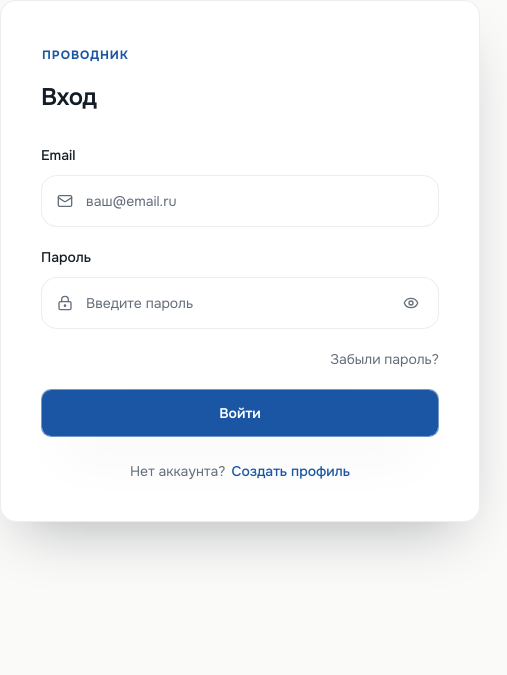
Test case: AuthEntryScreen traveler sign-in › shows a database session error in Russian when sign-in fails at token issuance
Type "admin@provodnik.test" into the field labelled "Email" at (240, 201), box x1=41 y1=175 x2=439 y2=227
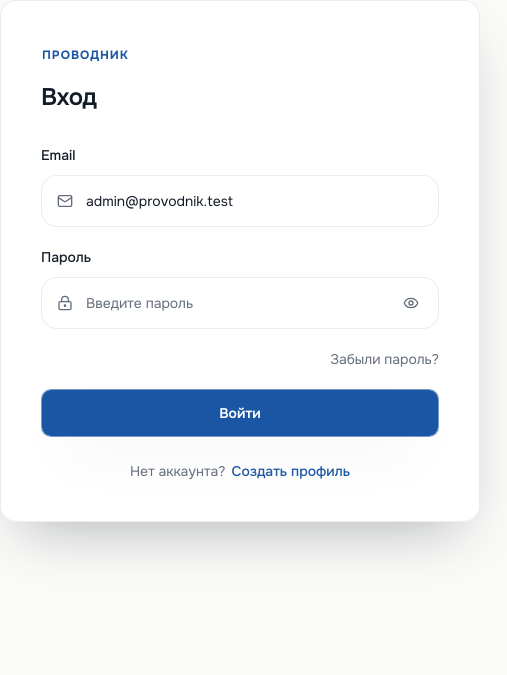
Type "Admin1234!" into the password field labelled "Пароль" at (240, 303), box x1=41 y1=277 x2=439 y2=329
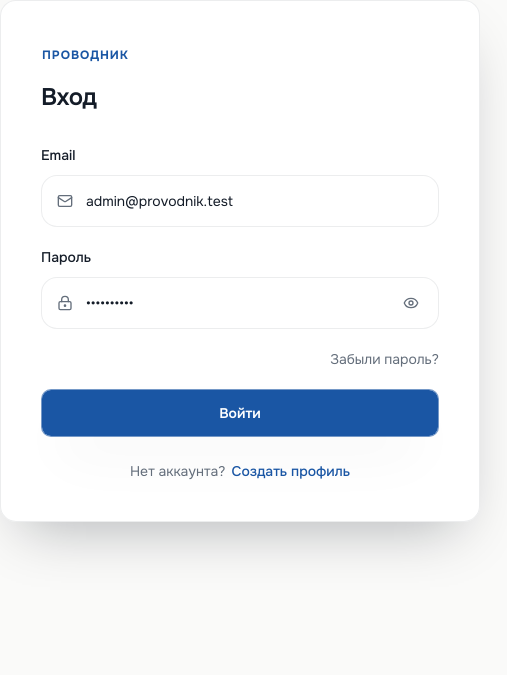
Click the button "Войти" at (240, 413), box x1=41 y1=389 x2=439 y2=437
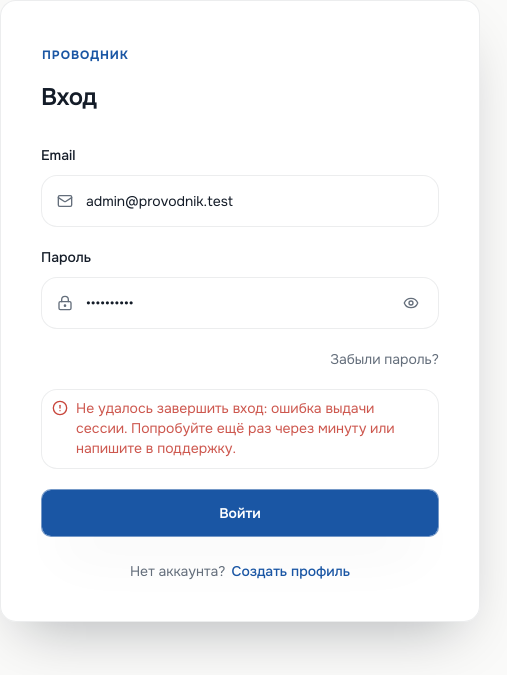
Result: the text "ошибка выдачи сессии" is shown at x1=76 y1=399 x2=395 y2=457
